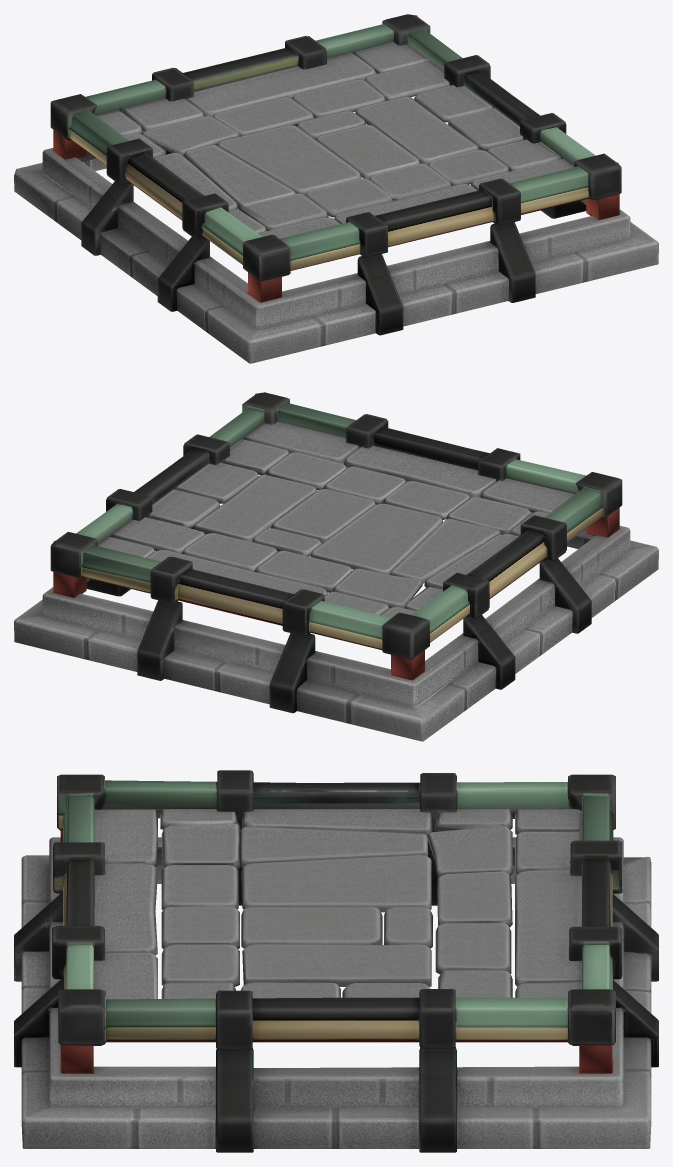
Rendered from tripo_convert_50c19f89-4c4d-4b7f-8ade-9de5bcfab7ca.fbx.
The picture shows the model from 3 angles, top to bottom: view 1: azimuth 30°, elevation 25°; view 2: azimuth 150°, elevation 25°; view 3: azimuth 270°, elevation 25°; orthographic projection. The views are drawn at different scales.
Visible parts, largest first — view 1: tripo_node_50c19f89; view 2: tripo_node_50c19f89; view 3: tripo_node_50c19f89.
Part boxes in pixels (box(x1,y1,x2,y2)): tripo_node_50c19f89: box(14, 14, 658, 363); tripo_node_50c19f89: box(14, 392, 658, 741); tripo_node_50c19f89: box(14, 770, 658, 1152).
Bounding box in the file's own units: 0.998 × 0.2168 × 0.998.
1 material, 1 textured.
